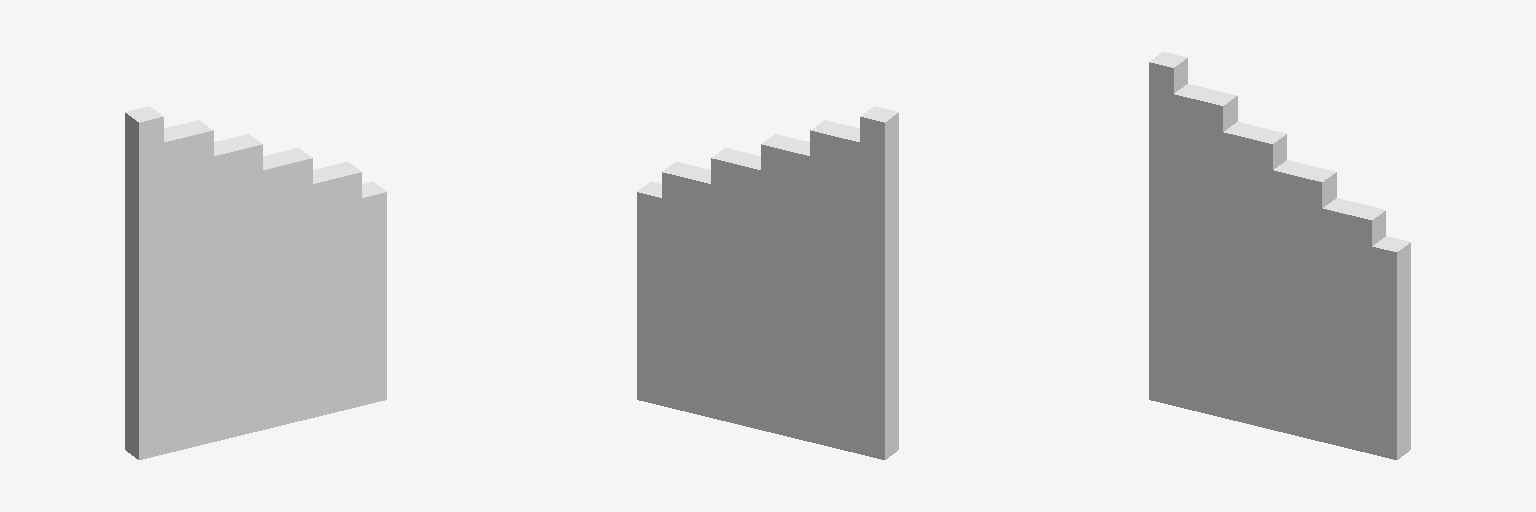
The model's file is EnemyEye.obj.
The picture shows the model from 3 angles: view 1: azimuth 30°, elevation 25°; view 2: azimuth 150°, elevation 25°; view 3: azimuth 330°, elevation 25°; orthographic projection.
Size of the model in its own units: 10 by 13 by 1.